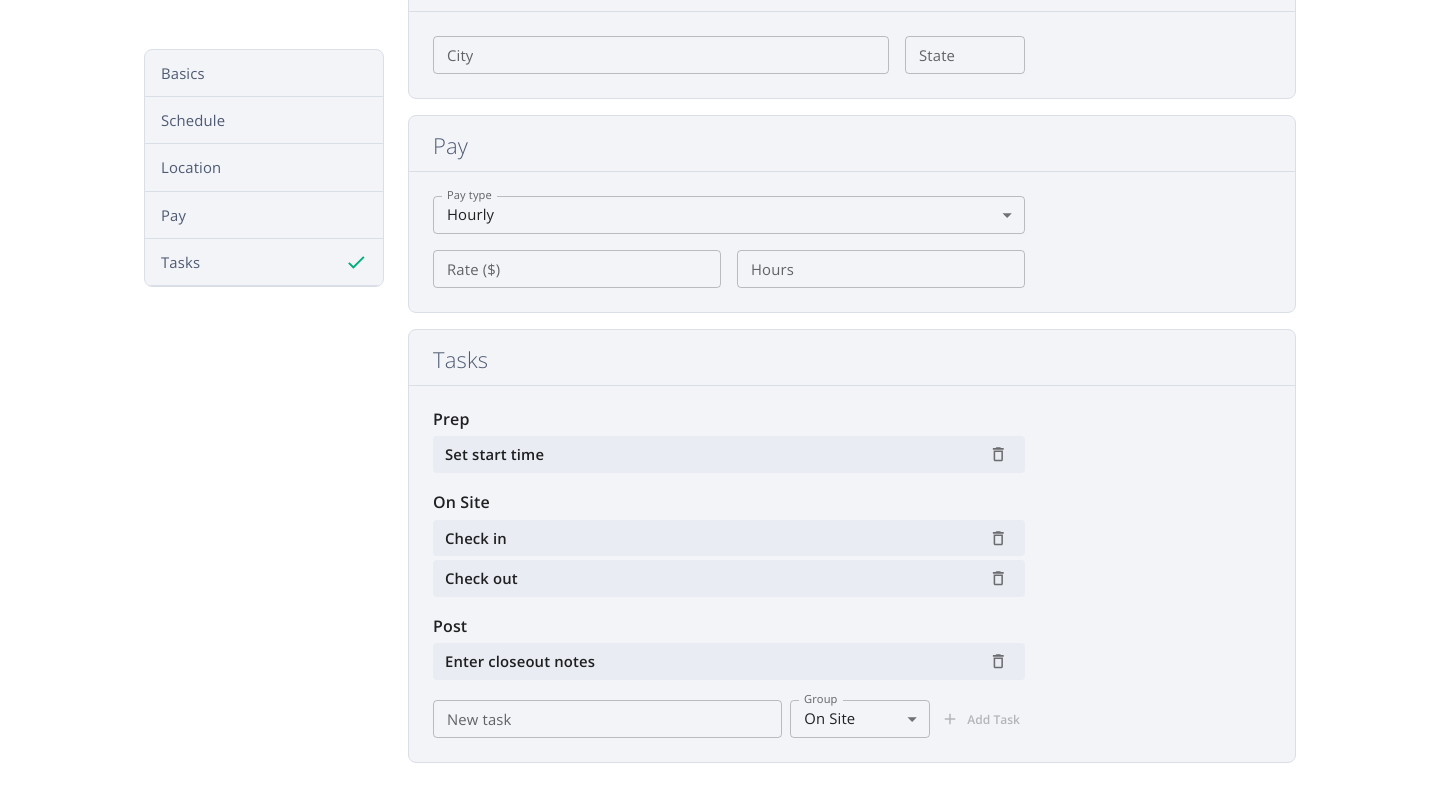
Test case: NewWorkOrderPage › adds a custom task
(page scrolled)
Type "Collect signature" into the field labelled "New task" at (608, 719), box [433,700,782,738]
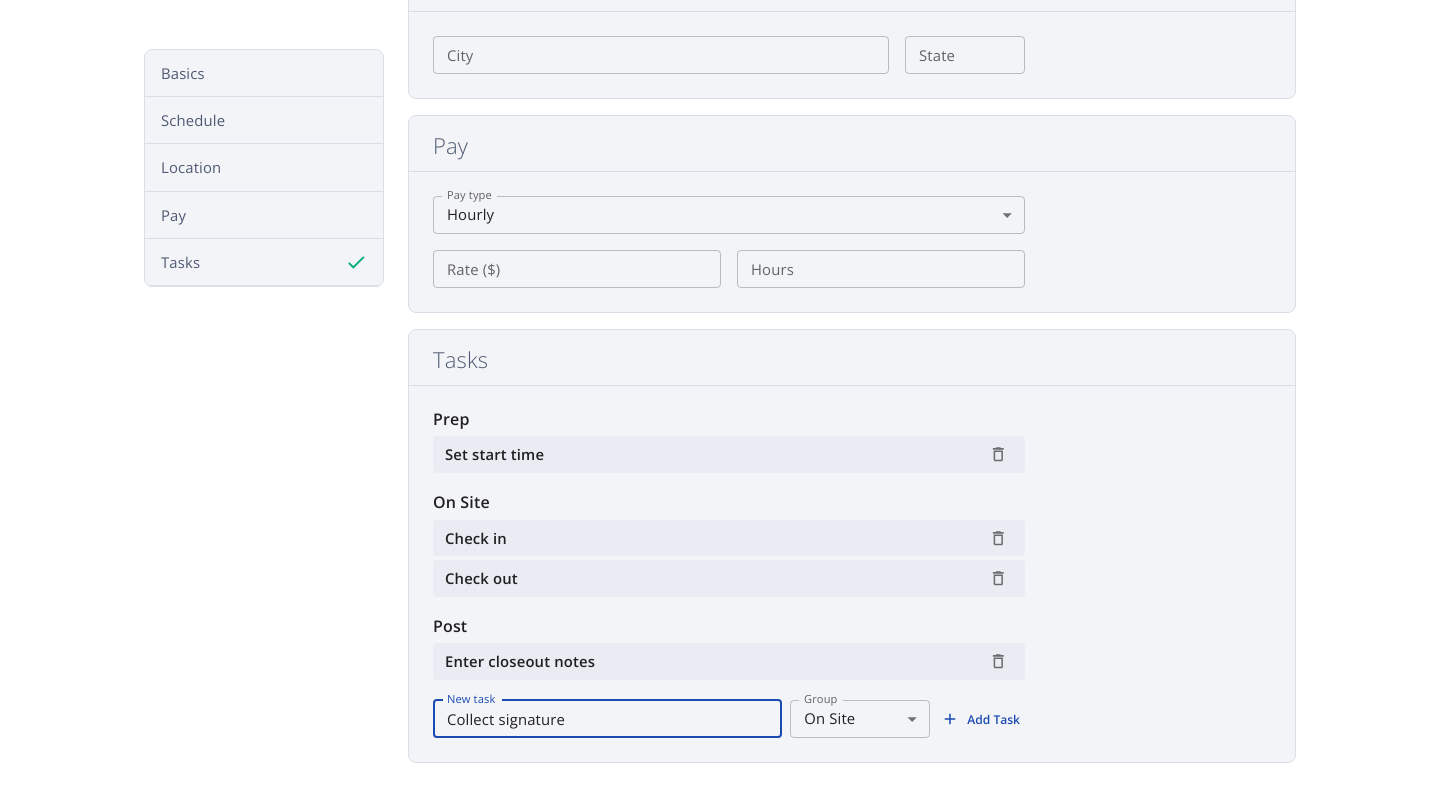
Click the button "Add Task" at (982, 719), box [938,704,1025,734]
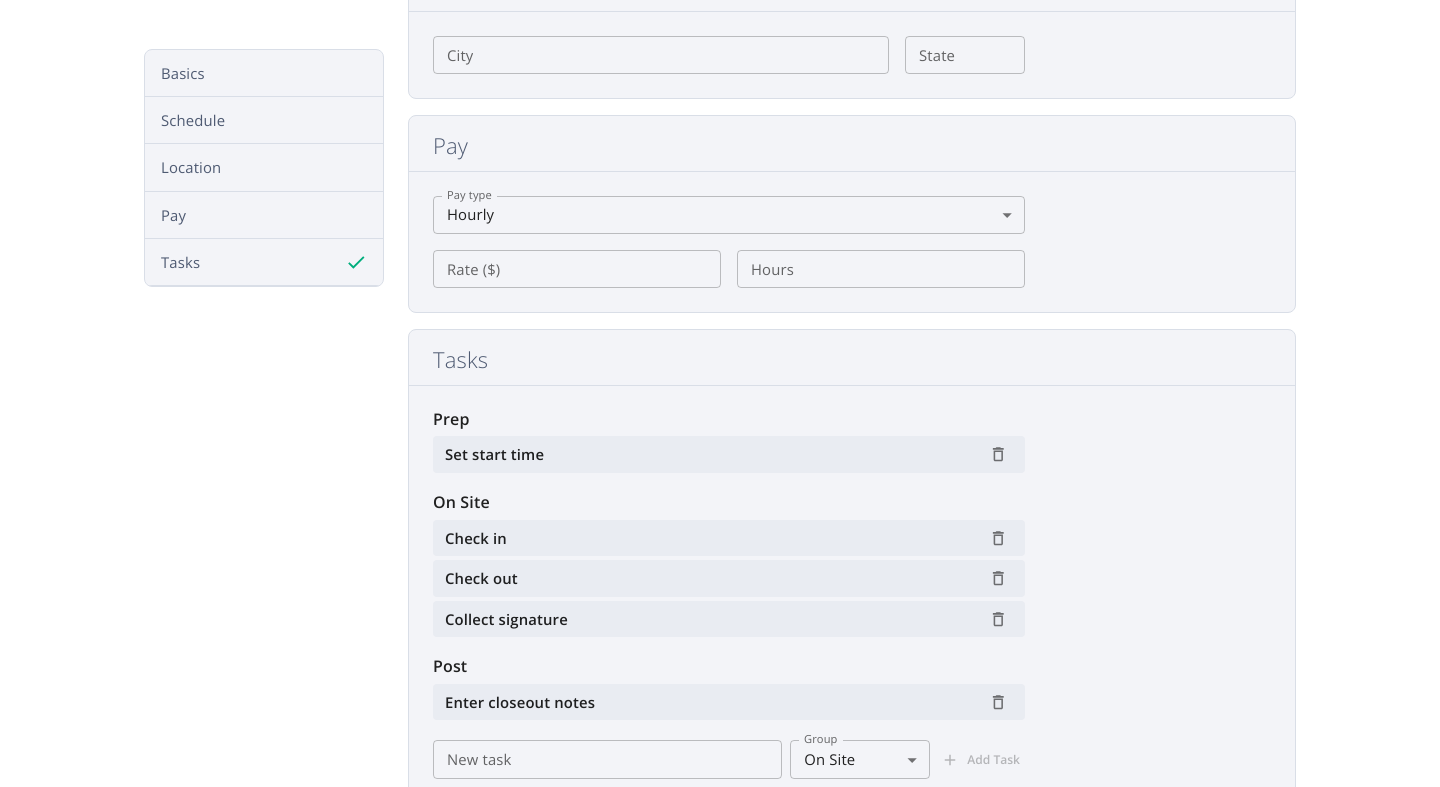
Expected: the text "Collect signature" is shown, [445,609,568,629]
